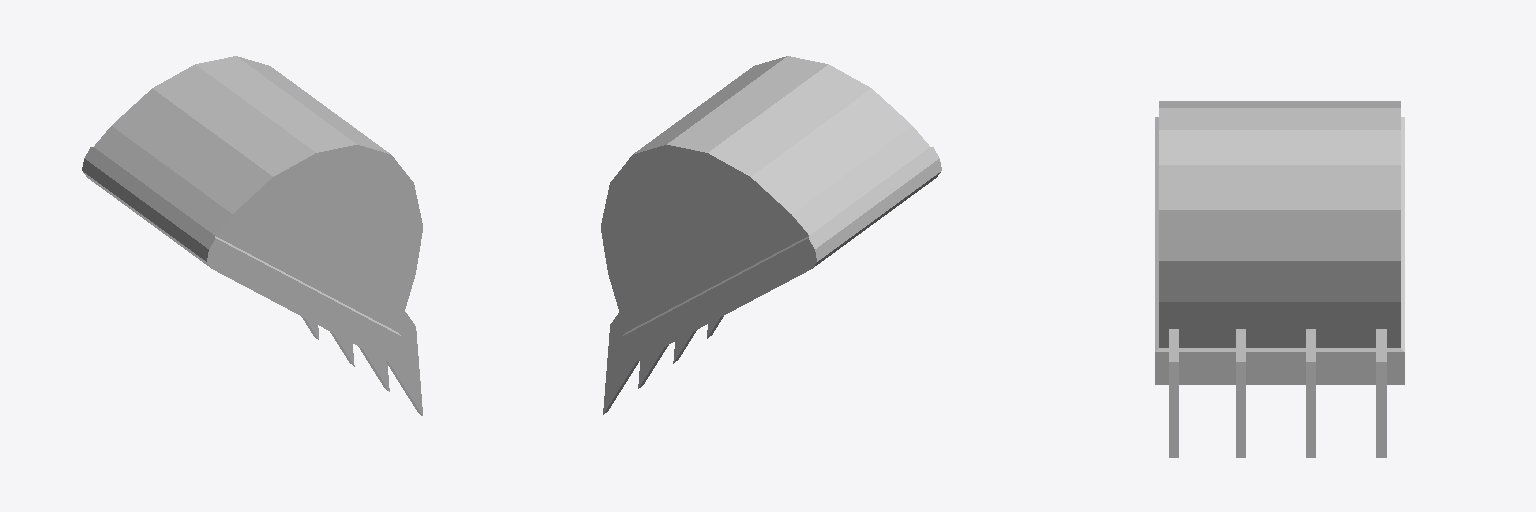
File: Excavadora_01.obj
The picture shows the model from 3 angles: view 1: azimuth 30°, elevation 25°; view 2: azimuth 150°, elevation 25°; view 3: azimuth 270°, elevation 25°; orthographic projection.
Visible parts, largest first — view 1: fangchangwatuji_Mesh_sep96; view 2: fangchangwatuji_Mesh_sep96; view 3: fangchangwatuji_Mesh_sep96.
Part boxes in pixels (left/top/right/bottom): fangchangwatuji_Mesh_sep96: left=82, top=56, right=422, bottom=415; fangchangwatuji_Mesh_sep96: left=601, top=56, right=941, bottom=414; fangchangwatuji_Mesh_sep96: left=1155, top=101, right=1404, bottom=457.
Size of the model in its own units: 0.98 by 1.24 by 0.9481.